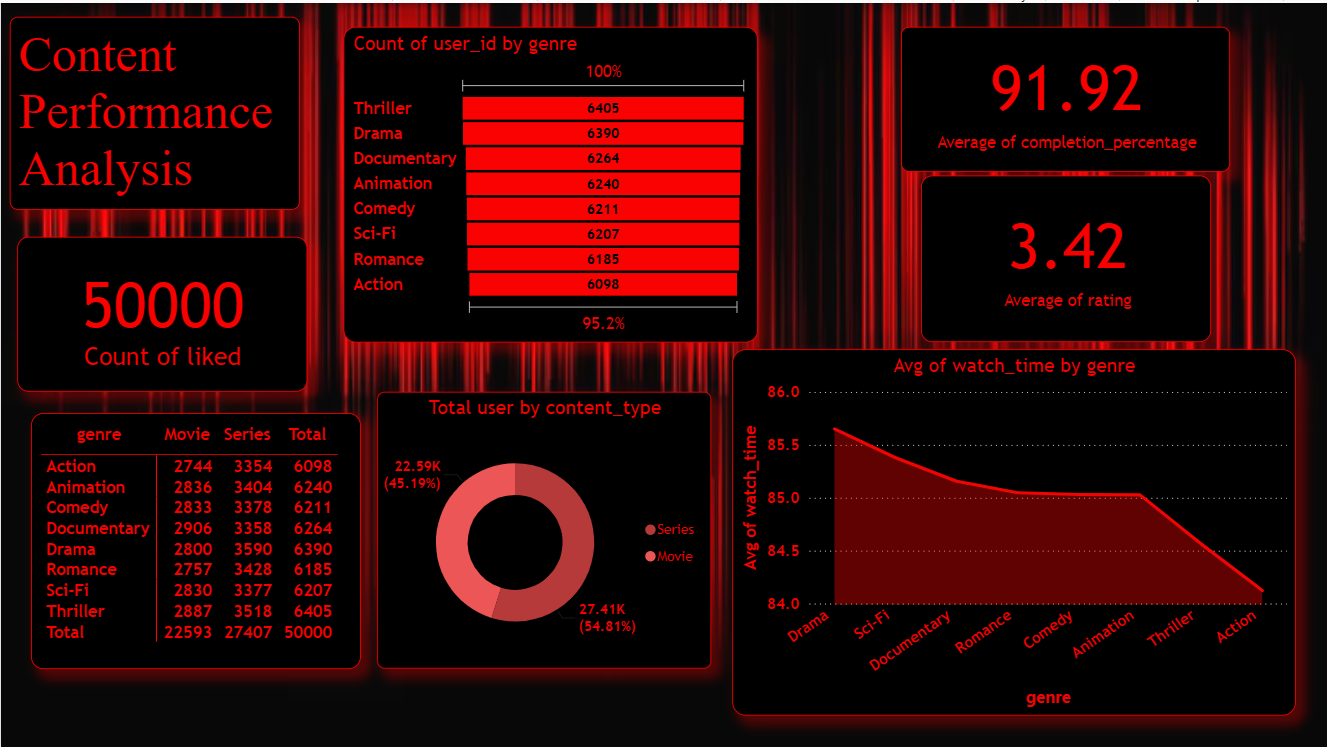

The dashboard page shown, as its layout file describes it:
{"tool":"powerbi","page":{"name":"CP","canvas":[1280,720],"ordinal":2},"visuals":[{"type":"textbox","box":[9,12.9,280.2,186.3],"z":0},{"type":"cardVisual","fields":{"Data":["Avg(archive.completion_percentage)"]},"box":[868.8,23.1,317.4,140.1],"z":1000},{"type":"cardVisual","fields":{"Data":["Avg(archive.rating)"]},"box":[888,167.1,280.2,160.6],"z":2000},{"type":"funnel","fields":{"Category":["archive.genre"],"Y":["CountNonNull(archive.user_id)"]},"box":[330.3,23.1,399.7,304.6],"z":3000},{"type":"donutChart","title":"Total user by content_type","fields":{"Category":["archive.content_type"],"Y":["CountNonNull(archive.user_id)"]},"box":[363.6,374.6,322.5,267.6],"z":4000},{"type":"areaChart","fields":{"Category":["archive.genre"],"Y":["Avg(archive.watch_time_minutes)"]},"box":[705.5,334.1,543.6,353.4],"z":5000},{"type":"pivotTable","fields":{"Rows":["archive.genre"],"Values":["Count(archive.user_id)"],"Columns":["archive.content_type"]},"box":[28.8,395.2,318.4,247],"z":6000},{"type":"card","fields":{"Values":["CountNonNull(archive.liked)"]},"box":[15.1,225,279.9,149.6],"z":7000}]}

Visuals, with their boxes in screenshot pixels (x1, y1, x2, y2), scaled from the page's 1280x720 canvas onto the 1327x747 screenshot:
textbox: left=9, top=13, right=300, bottom=207
cardVisual - Avg(archive.completion_percentage): left=901, top=24, right=1230, bottom=169
cardVisual - Avg(archive.rating): left=921, top=173, right=1211, bottom=340
funnel - archive.genre x CountNonNull(archive.user_id): left=342, top=24, right=757, bottom=340
"Total user by content_type" donutChart: left=377, top=389, right=711, bottom=666
areaChart - archive.genre x Avg(archive.watch_time_minutes): left=731, top=347, right=1295, bottom=713
pivotTable - archive.genre x Count(archive.user_id): left=30, top=410, right=360, bottom=666
card - CountNonNull(archive.liked): left=16, top=233, right=306, bottom=389
